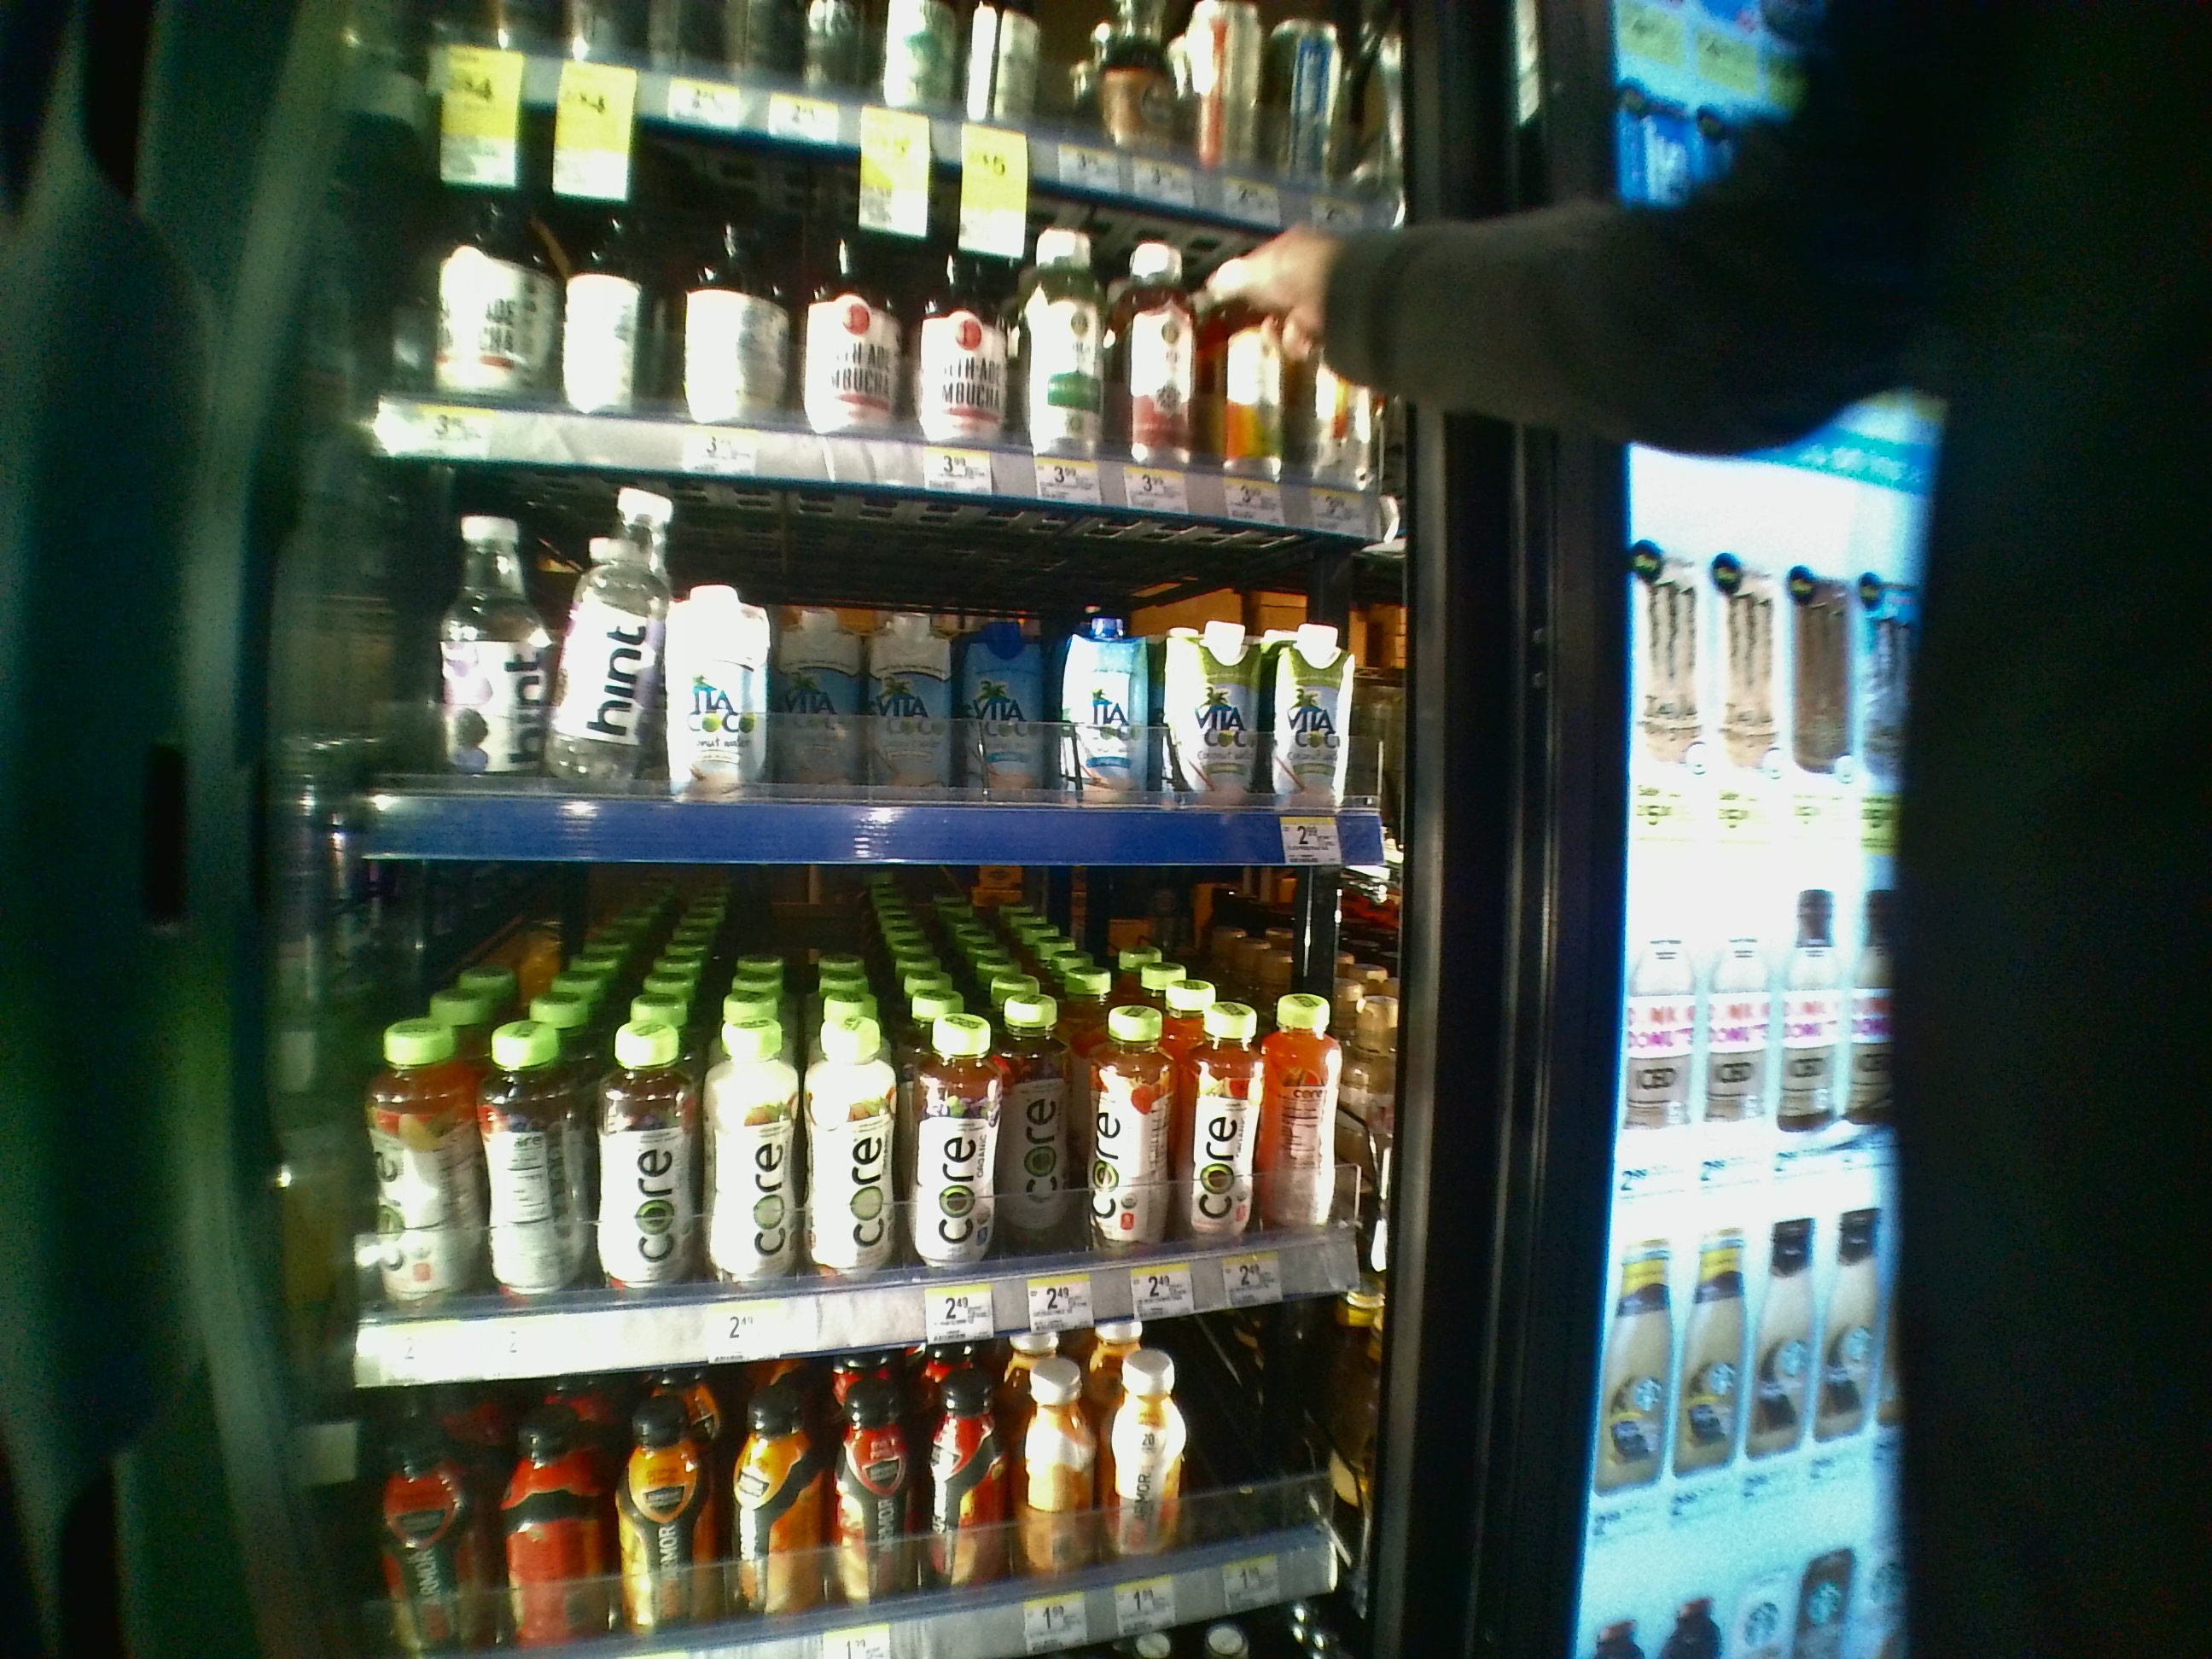shelf: (324, 863, 1414, 1326)
